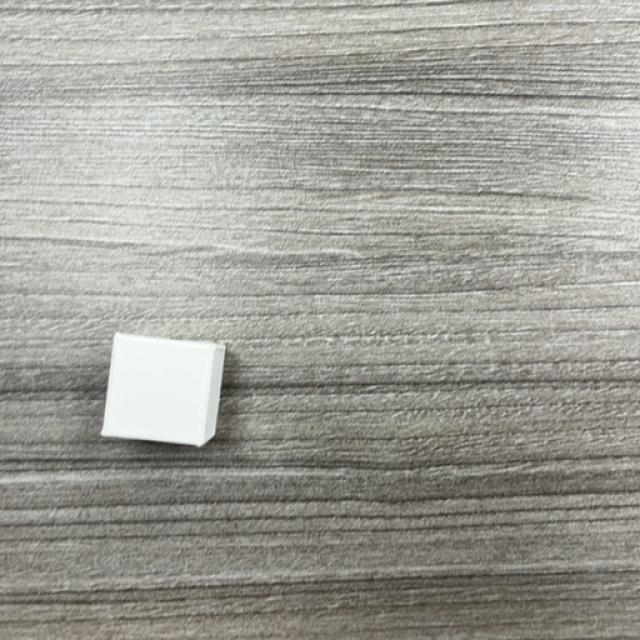Blanco: (100, 335, 228, 449)
